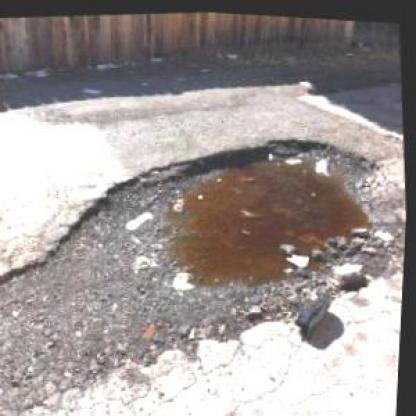pothole: (26, 108, 410, 415)
